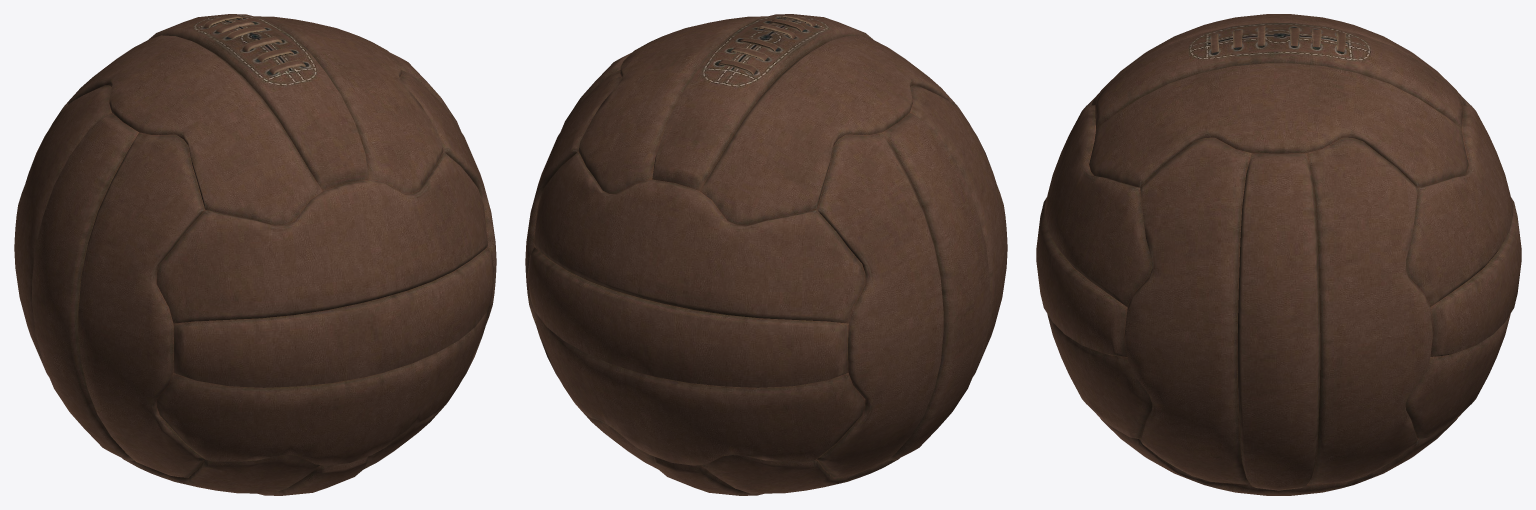
File: ball_classic.glb
3 views of the same model, side by side, from view 1: azimuth 30°, elevation 25°; view 2: azimuth 150°, elevation 25°; view 3: azimuth 270°, elevation 25° (orthographic).
Parts seen in each view (by area): view 1: ball_classic; view 2: ball_classic; view 3: ball_classic.
Part boxes in pixels (left/top/right/bottom): ball_classic: left=14, top=14, right=496, bottom=495; ball_classic: left=525, top=14, right=1007, bottom=495; ball_classic: left=1036, top=14, right=1521, bottom=495.
Size of the model in its own units: 0.2161 by 0.2176 by 0.2161.
Materials: 1 (1 with a texture image).
